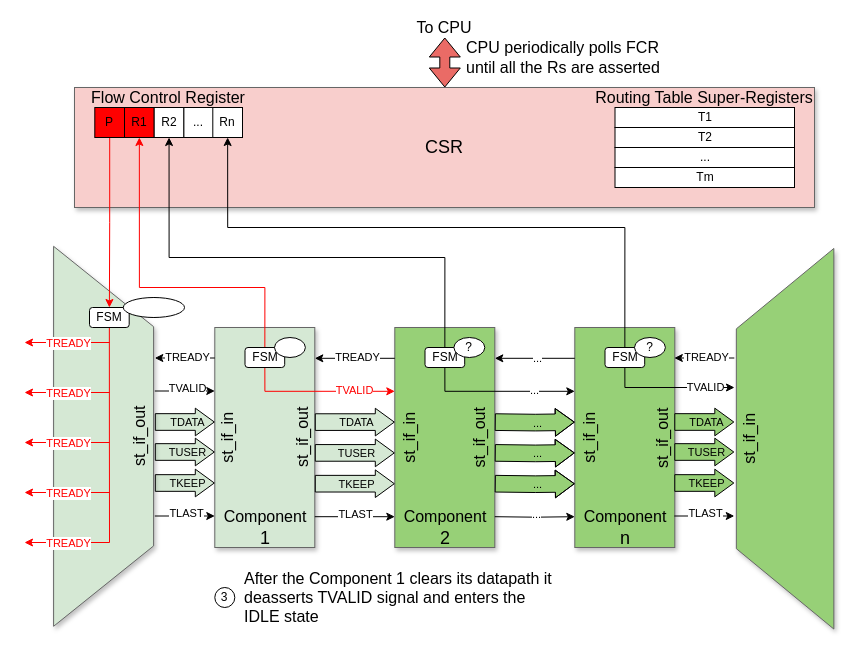
The diagram is 858 pixels wide and 653 high, and some of its shapes have lost their labels. Each missing label, with the centre of its shape:
"IDLE" goes at (289,347).
"PAUSED" goes at (153,307).
